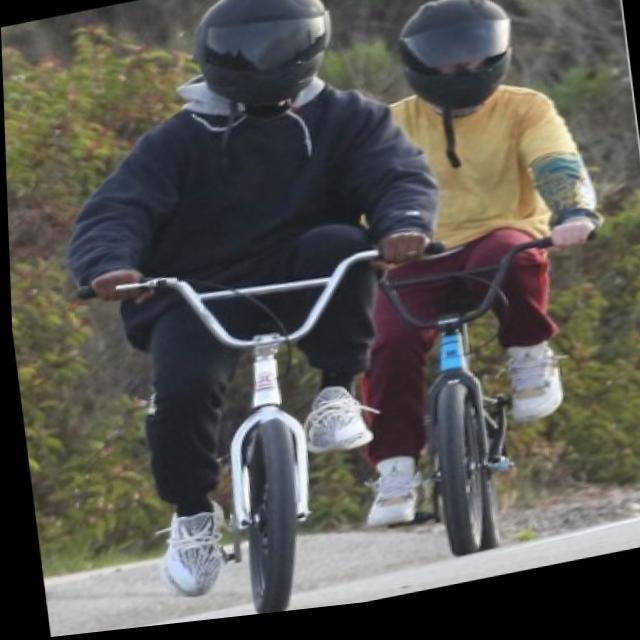Helmet: (183, 0, 347, 119), (389, 0, 526, 118)
